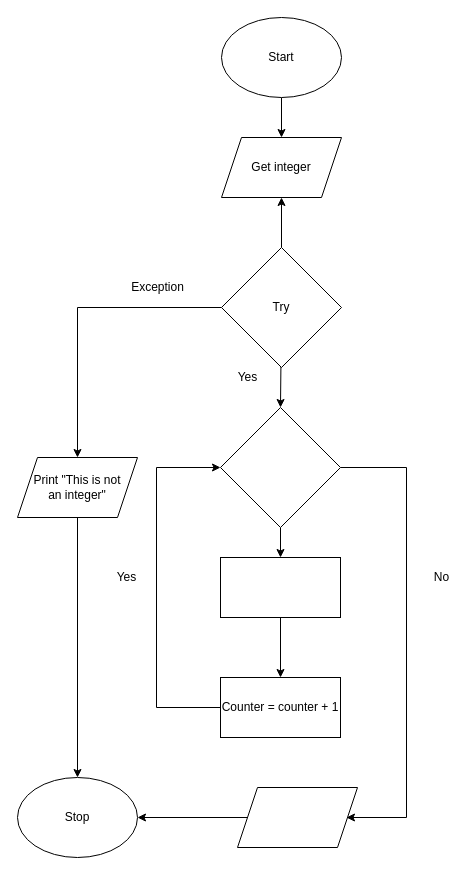
The diagram is 474 pixels wide and 875 high, and some of its shapes have lost their labels. The centre of each missing label's shape, as x and y in pixels:
Print "The answer is the sum": [297,817]
Sum = Sum + counter: [280,587]
While counter <= integer: [280,467]
